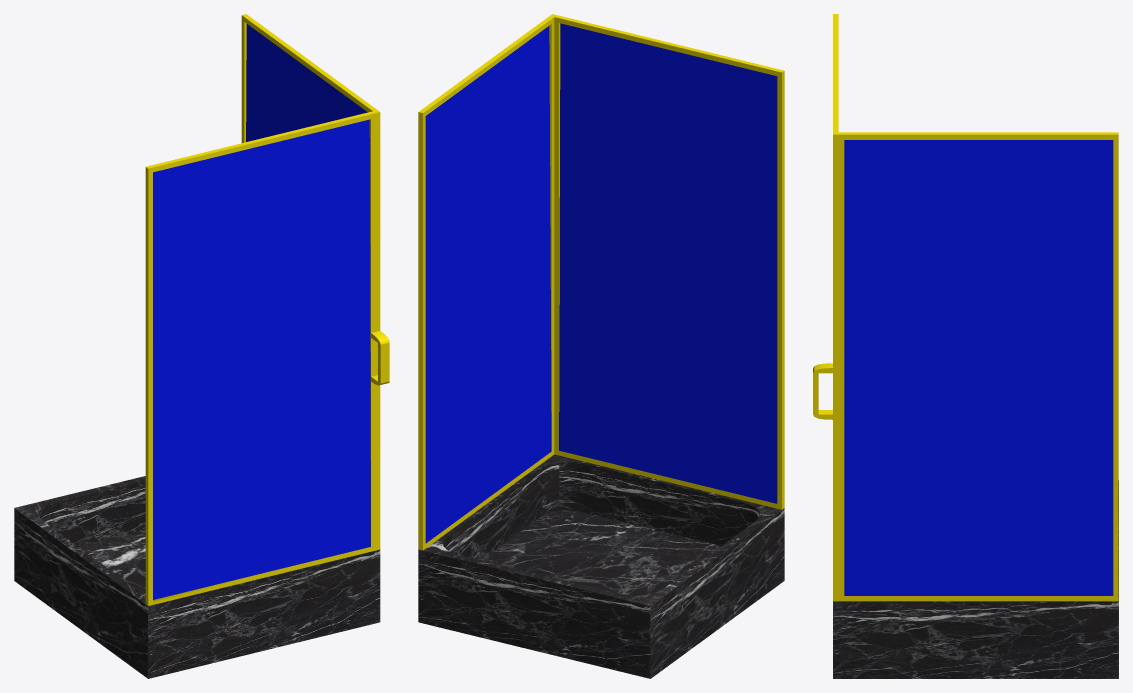
File: shower_cabin.FBX
3 views of the same model, side by side, from view 1: azimuth 30°, elevation 25°; view 2: azimuth 150°, elevation 25°; view 3: azimuth 270°, elevation 25° (orthographic). The views are drawn at different scales.
Visible parts, largest first — view 1: Door, Base, Frame; view 2: Door, Frame, Base; view 3: Frame, Base, Door.
Boxes of the visible parts, x1,y1,x2,y2 form: Door: (145, 110, 389, 605); Base: (14, 476, 380, 678); Frame: (241, 14, 376, 142); Door: (550, 14, 784, 509); Frame: (418, 16, 554, 550); Base: (418, 454, 784, 678); Frame: (838, 132, 1118, 601); Base: (833, 480, 1118, 678); Door: (813, 14, 838, 601).
Bounding box in the file's own units: 1 × 2.1 × 1.07.
3 materials, 1 textured.
